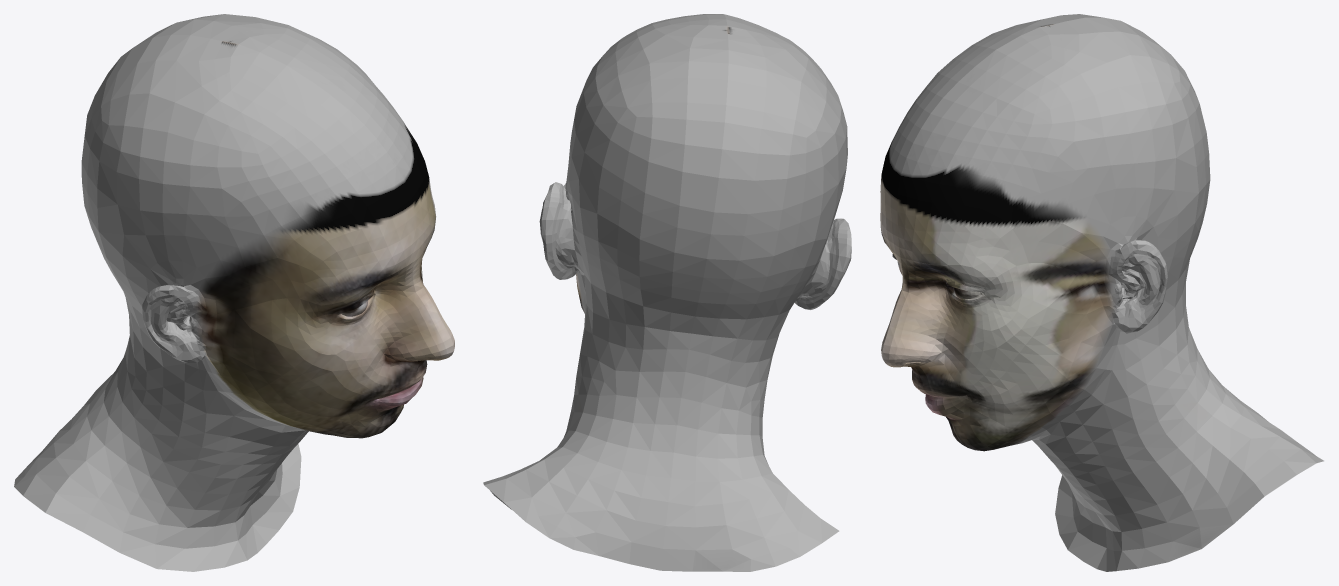
The model's file is ezgif-frame-042.obj.
3 views of the same model, side by side, from view 1: azimuth 30°, elevation 25°; view 2: azimuth 150°, elevation 25°; view 3: azimuth 270°, elevation 25° (orthographic). The views are drawn at different scales.
Bounding box in the file's own units: 0.2015 × 0.3245 × 0.2539.
Materials: 1 (1 with a texture image).
